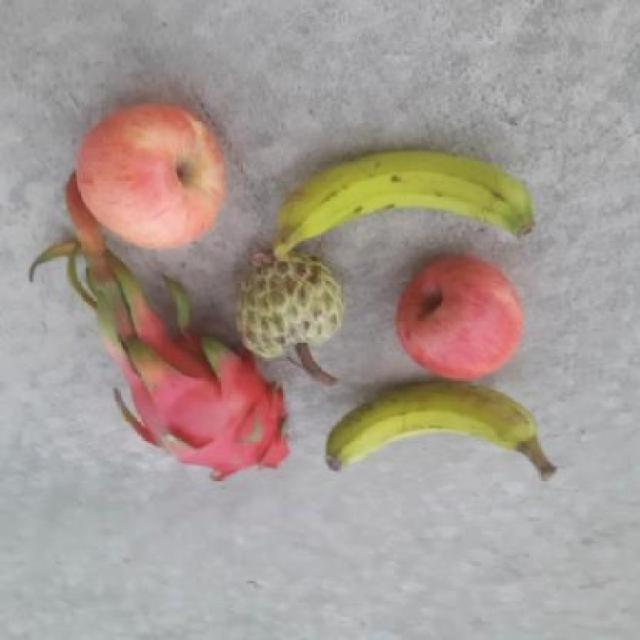apple: (71, 101, 231, 253), (393, 253, 532, 382)
banana: (269, 142, 546, 262), (323, 380, 559, 478)
dragon fruit: (111, 332, 300, 493)
sugar apple: (225, 252, 348, 366)
